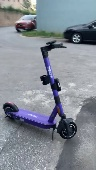beam: (2, 40, 79, 140)
